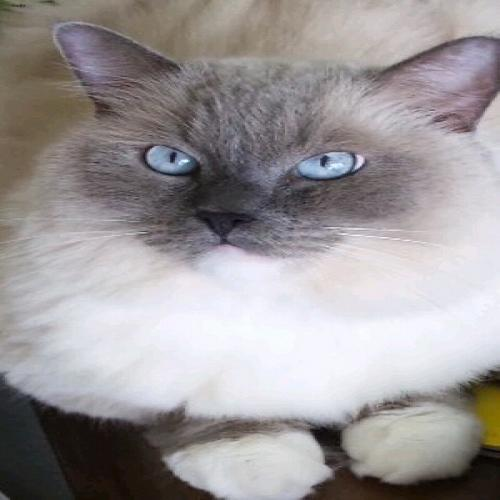ragdoll: (28, 1, 500, 281)
